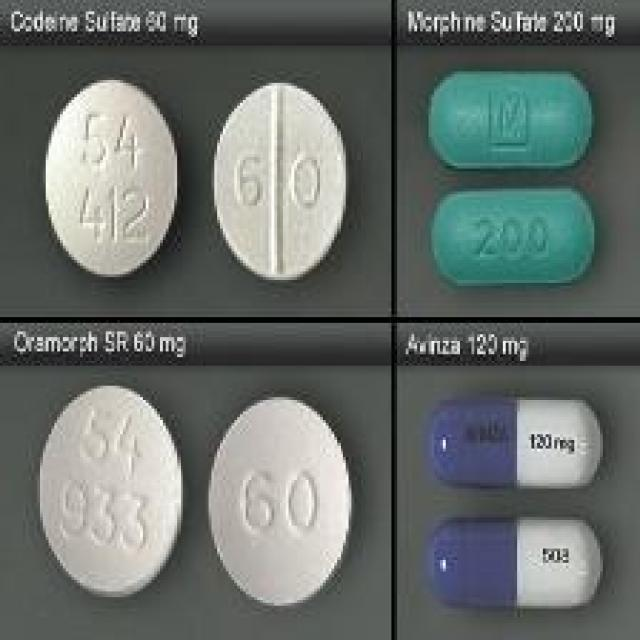Medicine: (26, 378, 192, 624), (206, 392, 352, 615), (201, 71, 345, 278), (36, 82, 184, 282), (424, 186, 622, 310), (401, 386, 607, 500), (418, 68, 603, 179), (423, 511, 599, 606)
